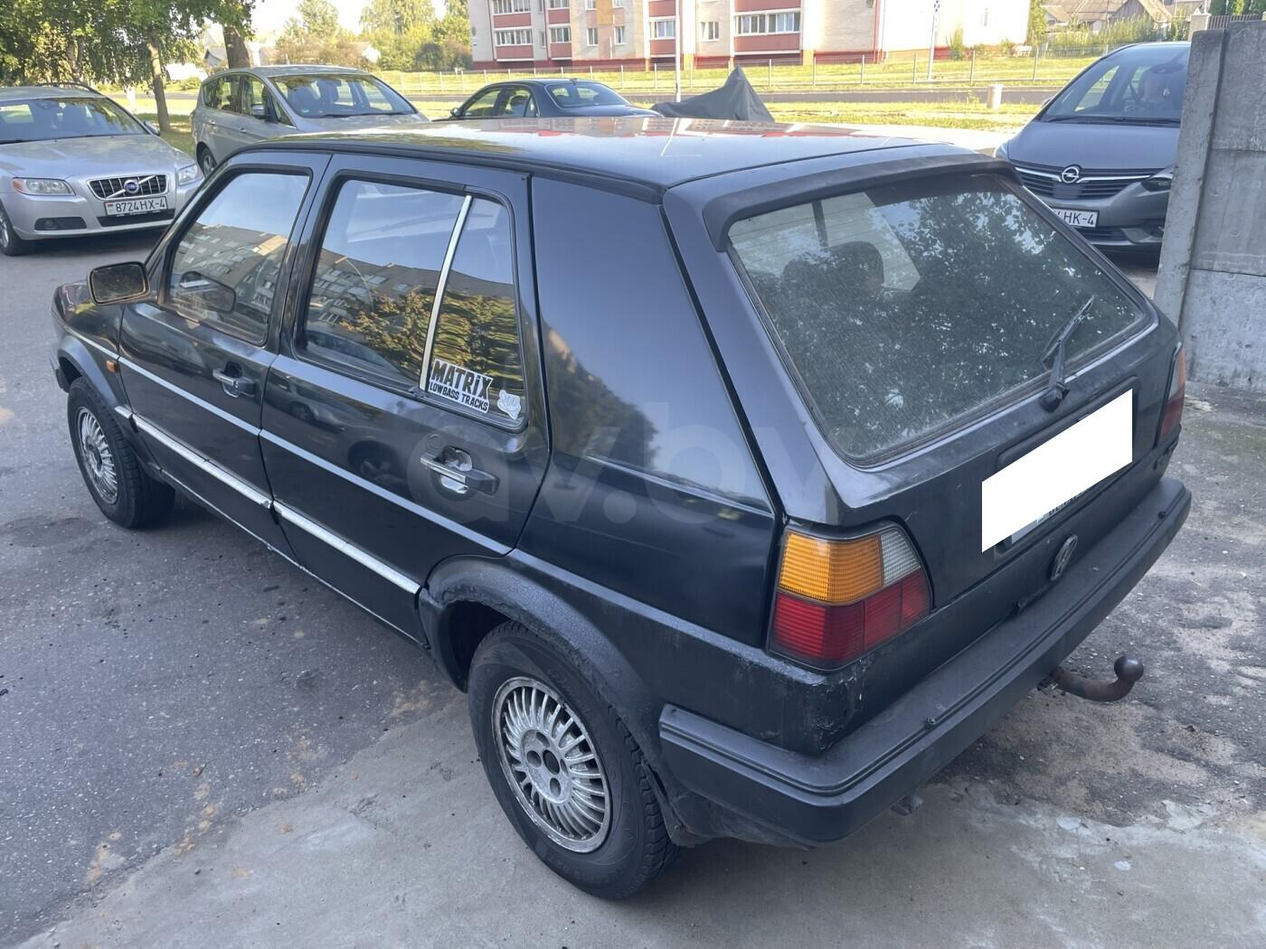Golf_1983-1992: (45, 116, 1196, 897)
